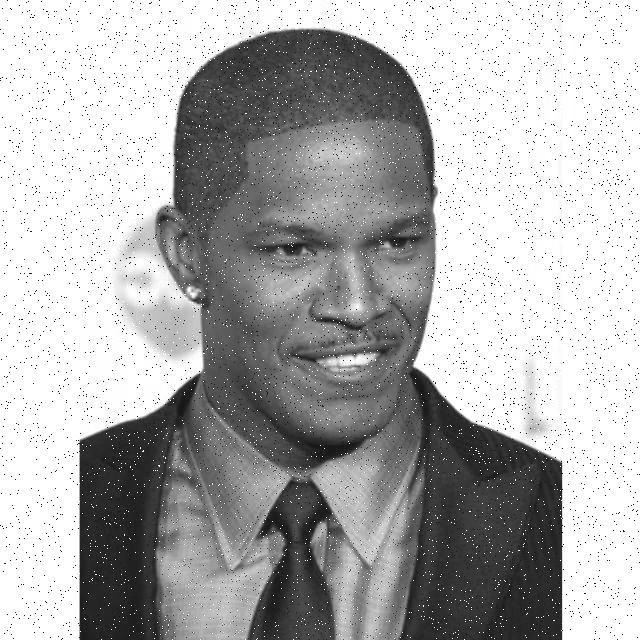real: (210, 120, 436, 443)
